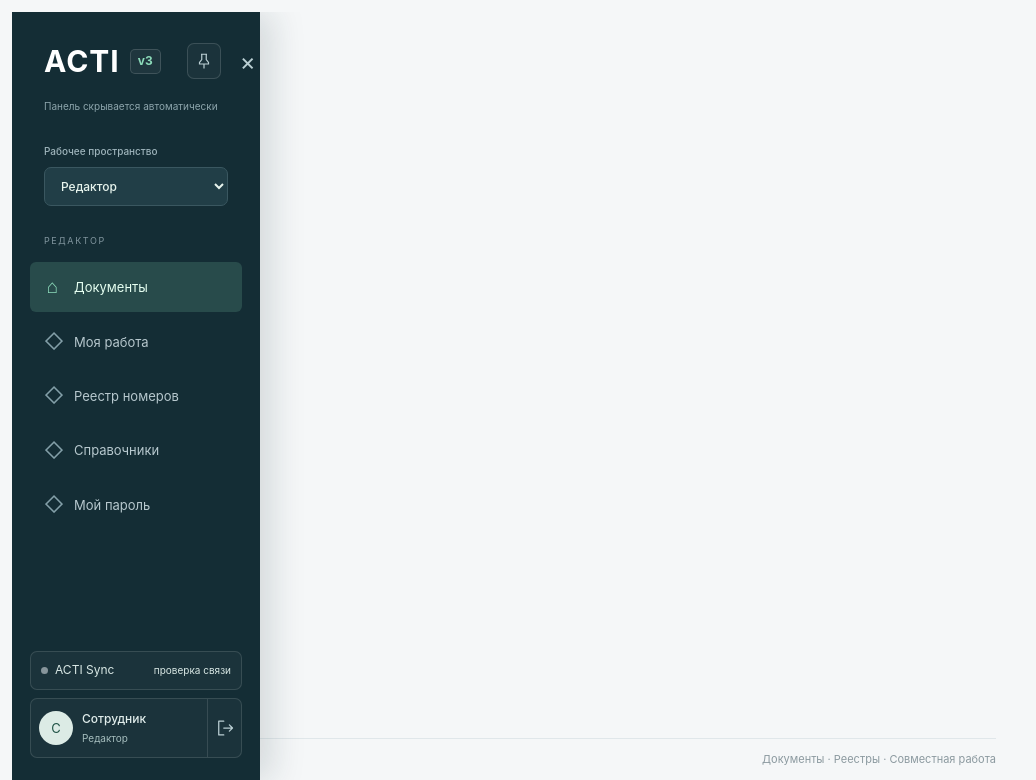
Scenario: opens personal history from the editor workspace instead of execution tasks
The image size is (1036, 780).
Expected: the heading "Документы" is shown, [62,44,211,78]
Click the button "◇ Моя работа".
click(136, 342)  # box [30,317,242,366]
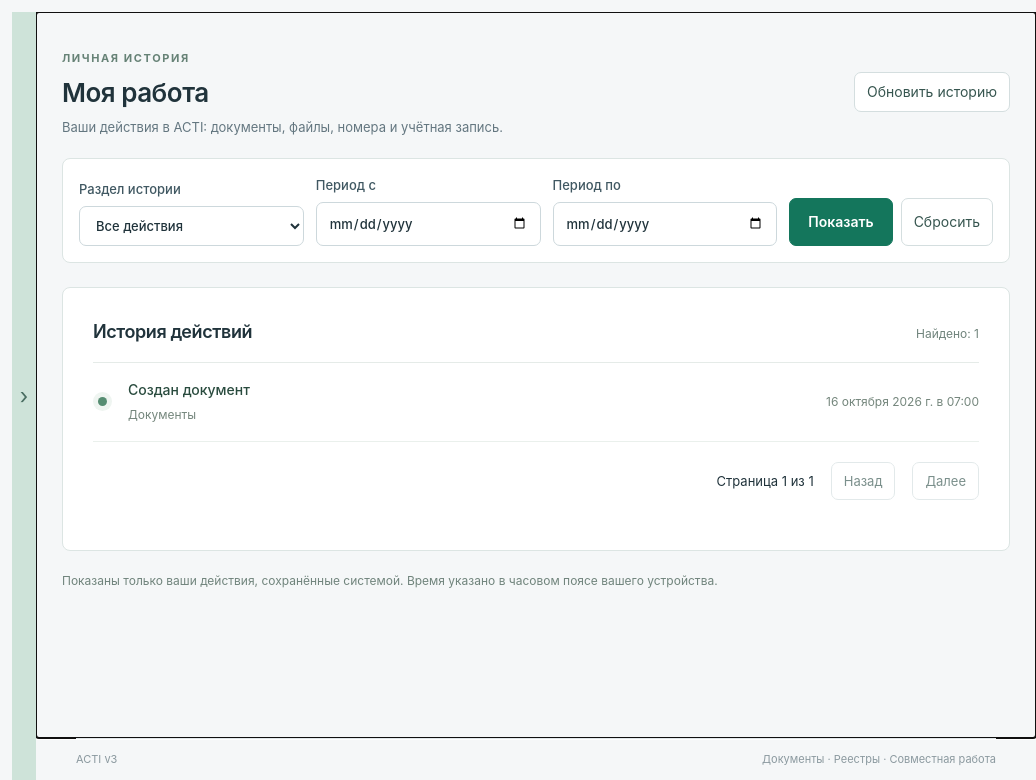
Expected: the text "Создан документ" is shown, [128,381,250,398]
